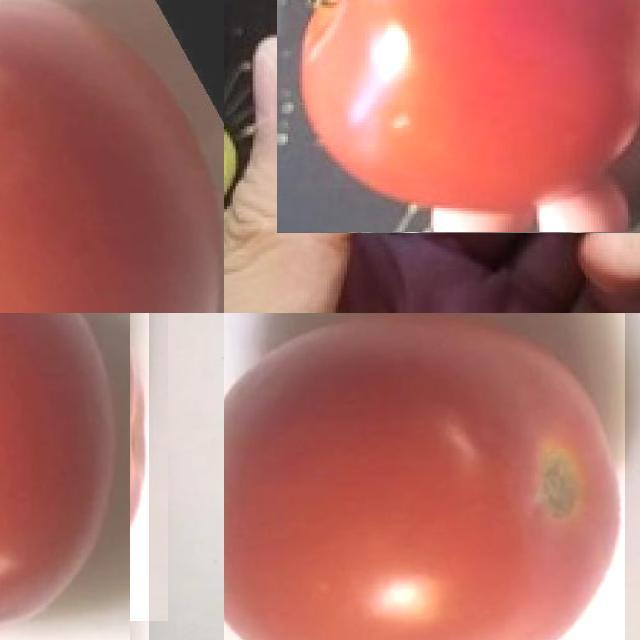Fresh Tomato: (224, 313, 625, 640), (276, 0, 640, 232), (0, 0, 224, 313), (0, 313, 149, 640)
